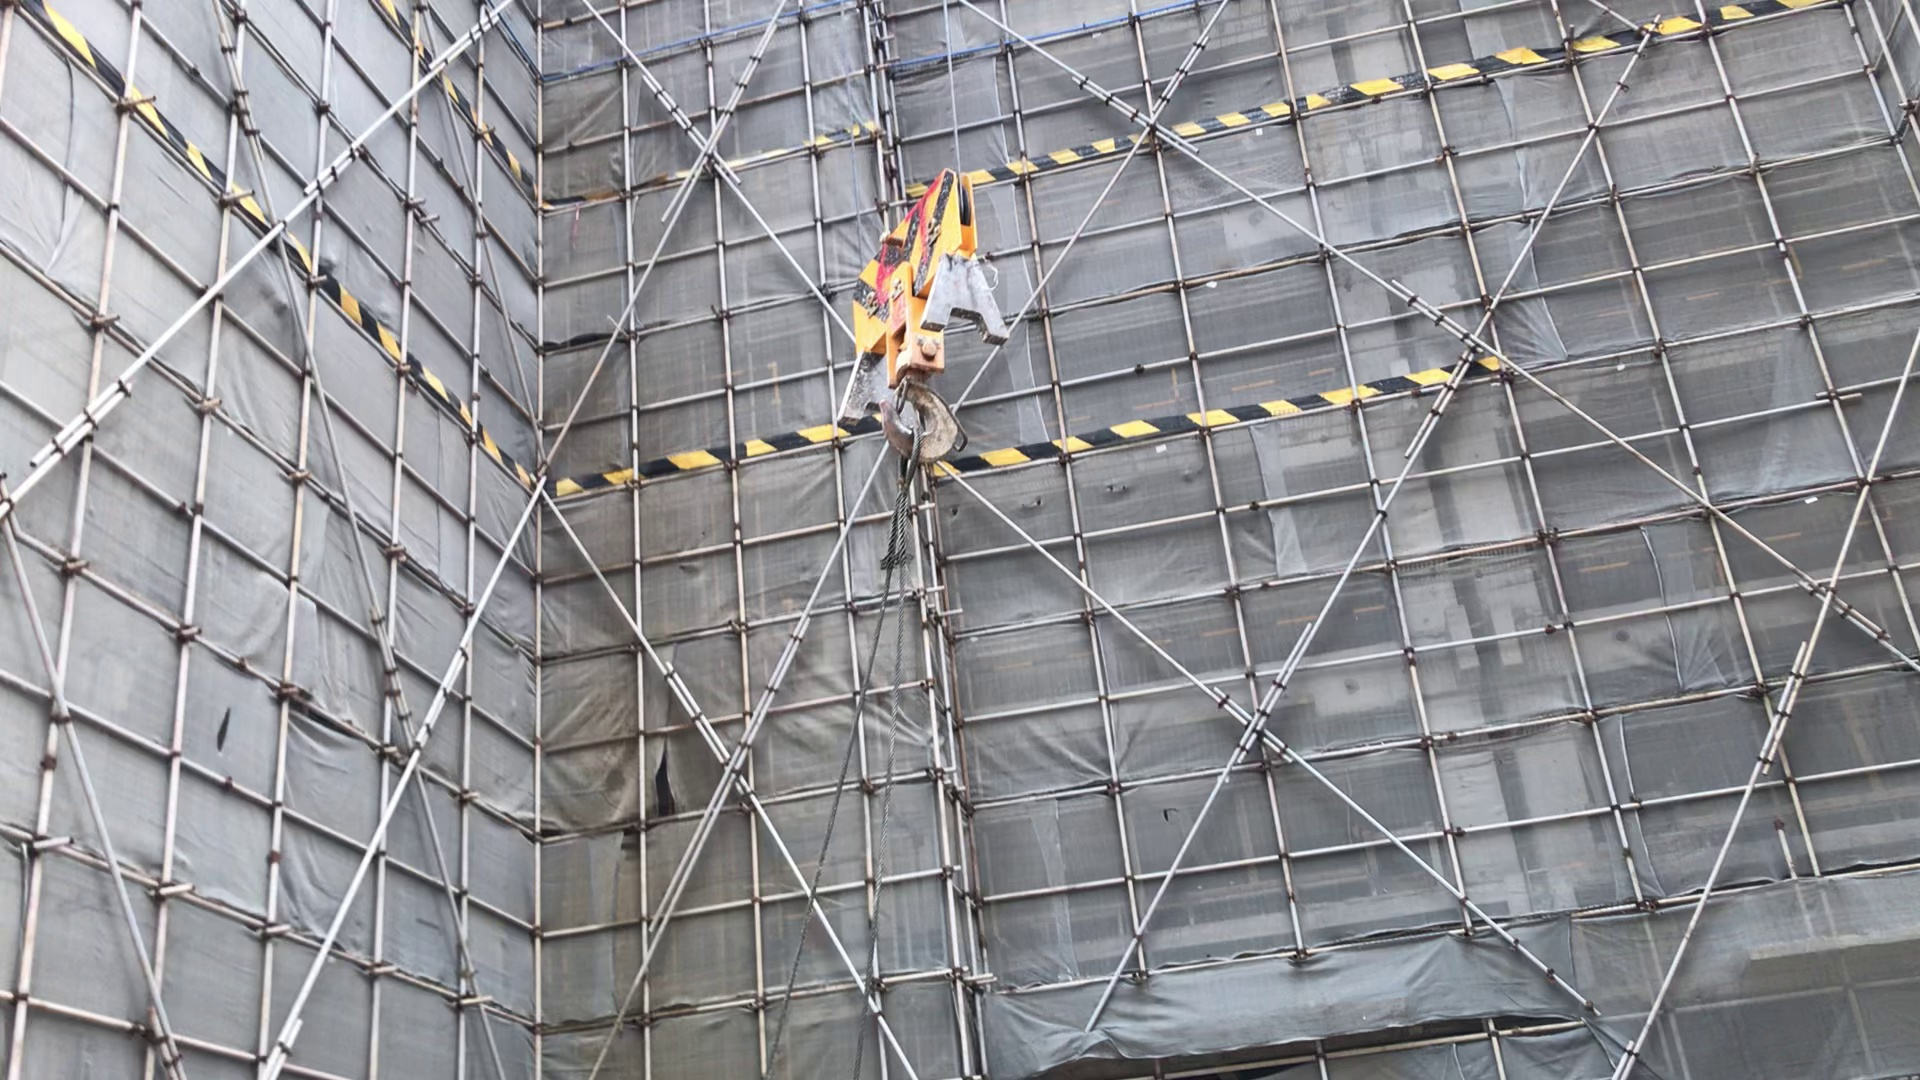hook: (847, 169, 1009, 465)
